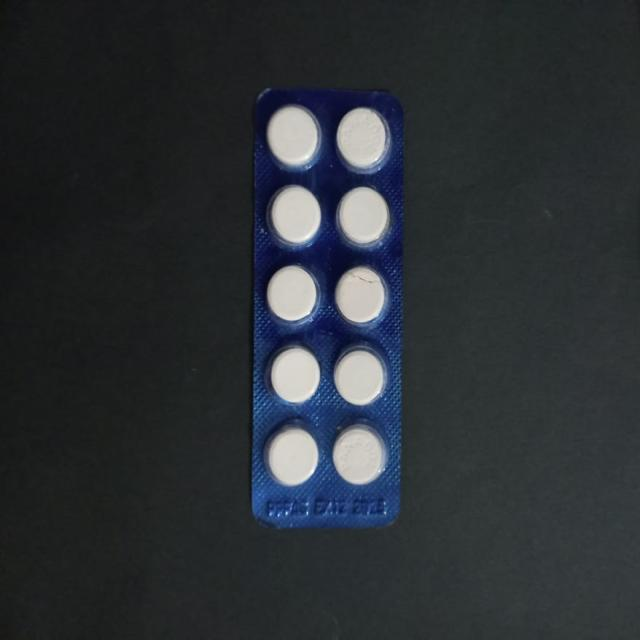defect: (333, 262, 387, 329)
